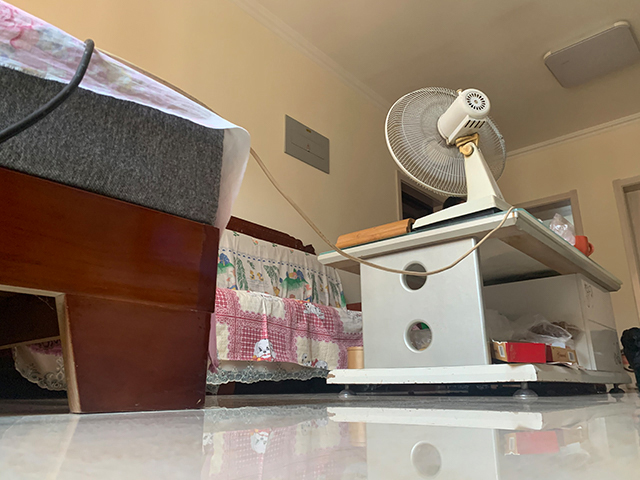sofa: (1, 4, 217, 415), (222, 218, 340, 389)
table: (316, 207, 633, 401)
wire: (254, 156, 510, 277), (1, 41, 94, 143)
